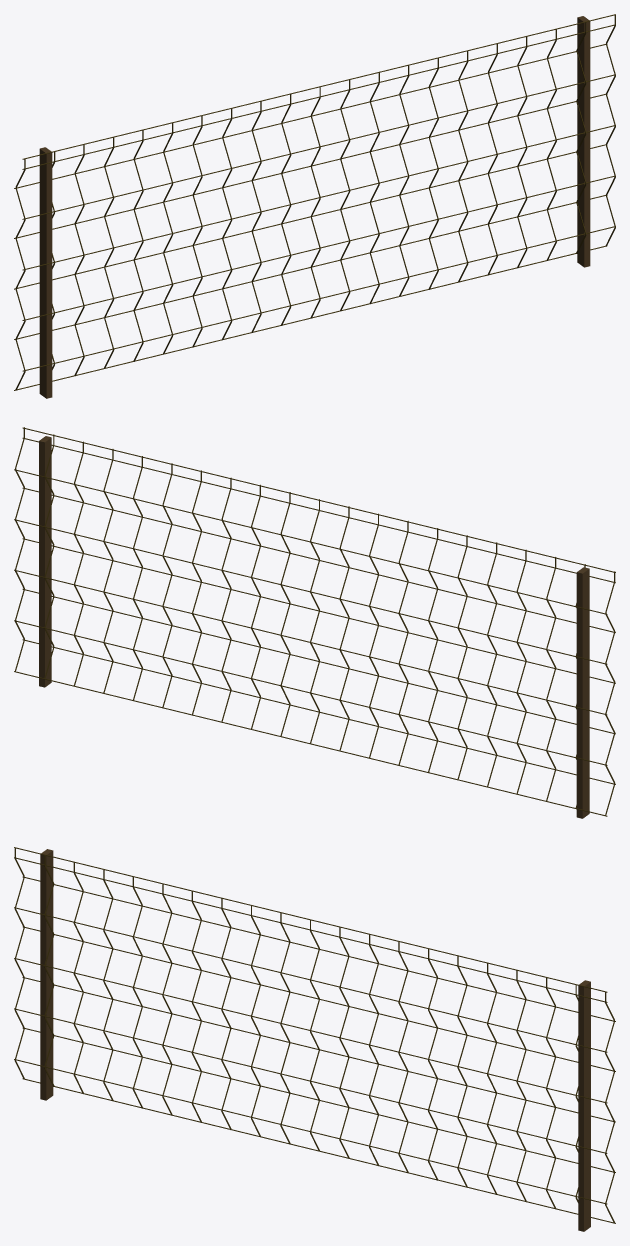
The model's file is toremeshsingle_h800_woodasianbrown.fbx.
3 views of the same model, one above another, from view 1: azimuth 30°, elevation 25°; view 2: azimuth 150°, elevation 25°; view 3: azimuth 330°, elevation 25° (orthographic).
Visible parts, largest first — view 1: toremeshsingle_h800_brown; view 2: toremeshsingle_h800_brown; view 3: toremeshsingle_h800_brown.
Boxes of the visible parts, box(x1,y1,x2,y2) form: toremeshsingle_h800_brown: box(14, 14, 615, 398); toremeshsingle_h800_brown: box(14, 427, 615, 818); toremeshsingle_h800_brown: box(14, 847, 615, 1231).
Bounding box in the file's own units: 199 × 79.15 × 5.67.
Materials: 2 (2 with a texture image).
